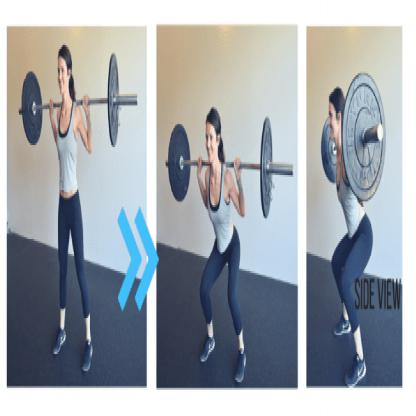Barbell: (338, 63, 389, 207), (258, 110, 278, 225), (106, 50, 125, 158)
